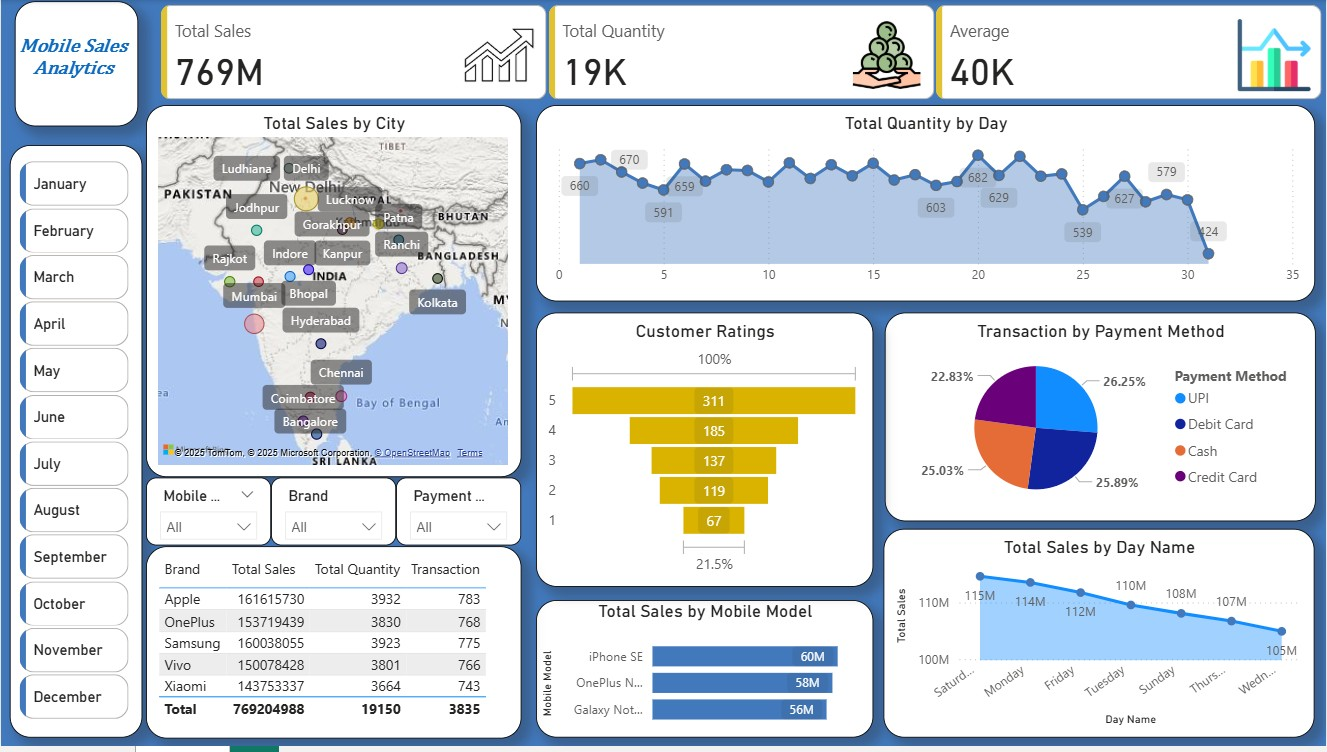

The dashboard page shown, as its layout file describes it:
{"tool":"powerbi","page":{"name":"Page 1","canvas":[1280,720],"ordinal":0},"visuals":[{"type":"shape","box":[13.7,1.4,119.4,120.8],"z":0},{"type":"shape","box":[8.2,140,127.6,572.2],"z":1000},{"type":"advancedSlicerVisual","fields":{"Values":["Sheet1.Date.Variation.Date Hierarchy.Month"]},"box":[13.3,150.8,115.8,548.9],"z":2000},{"type":"cardVisual","fields":{"Data":["Sales _Data.Total Sales","Sales _Data.Total Quantity","Sales _Data.Average"]},"box":[149.6,0,1130.7,101.5],"z":3000},{"type":"map","fields":{"Category":["Sales _Data.City"],"Size":["Sales _Data.Total Sales"]},"box":[140,101.5,362.3,359.5],"z":4000},{"type":"lineChart","fields":{"Category":["Sales _Data.Date.Variation.Date Hierarchy.Month","Sales _Data.Date.Variation.Date Hierarchy.Day"],"Y":["Sales _Data.Total Quantity"]},"box":[516,101.5,752,189.4],"z":5000},{"type":"clusteredBarChart","fields":{"Category":["Sales _Data.Mobile Model"],"Y":["Sales _Data.Total Sales"]},"box":[516,579.1,325.2,133.1],"z":6000},{"type":"pieChart","fields":{"Y":["Sales _Data.Transaction"],"Category":["Sales _Data.Payment Method"]},"box":[853.5,301.9,415.8,201.7],"z":7000},{"type":"funnel","title":"Customer Ratings","fields":{"Category":["Sales _Data.Customer Ratings"],"Y":["CountNonNull(Sales _Data.Customer Ratings)"]},"box":[516,301.9,325.2,264.8],"z":8000},{"type":"areaChart","fields":{"Category":["Sales _Data.Day Name"],"Y":["Sales _Data.Total Sales"]},"box":[852.1,510.5,415.8,201.7],"z":9000},{"type":"tableEx","fields":{"Values":["Sales _Data.Brand","Sales _Data.Total Sales","Sales _Data.Total Quantity","Sales _Data.Transaction"]},"box":[140,526.9,362.3,185.2],"z":10000},{"type":"slicer","fields":{"Values":["Sales _Data.Mobile Model"]},"box":[140,461.1,120.8,65.9],"z":11000},{"type":"slicer","fields":{"Values":["Sales _Data.Brand"]},"box":[260.7,461.1,120.8,65.9],"z":12000},{"type":"slicer","fields":{"Values":["Sales _Data.Payment Method"]},"box":[381.5,461.1,120.8,65.9],"z":13000},{"type":"textbox","box":[0,29,138.7,66.4],"z":14000}]}

Visuals, with their boxes in screenshot pixels (x1, y1, x2, y2), scaled from the page's 1280x720 canvas onto the 1327x752 screenshot:
shape: region(14, 1, 138, 128)
shape: region(9, 146, 141, 744)
advancedSlicerVisual - Sheet1.Date.Variation.Date Hierarchy.Month: region(14, 158, 134, 731)
cardVisual - Sales _Data.Total Sales x Sales _Data.Total Quantity: region(155, 0, 1326, 106)
map - Sales _Data.City x Sales _Data.Total Sales: region(145, 106, 521, 481)
lineChart - Sales _Data.Date.Variation.Date Hierarchy.Month x Sales _Data.Date.Variation.Date Hierarchy.Day: region(535, 106, 1315, 304)
clusteredBarChart - Sales _Data.Mobile Model x Sales _Data.Total Sales: region(535, 605, 872, 744)
pieChart - Sales _Data.Transaction x Sales _Data.Payment Method: region(885, 315, 1316, 526)
"Customer Ratings" funnel: region(535, 315, 872, 592)
areaChart - Sales _Data.Day Name x Sales _Data.Total Sales: region(883, 533, 1314, 744)
tableEx - Sales _Data.Brand x Sales _Data.Total Sales: region(145, 550, 521, 744)
slicer - Sales _Data.Mobile Model: region(145, 482, 270, 550)
slicer - Sales _Data.Brand: region(270, 482, 396, 550)
slicer - Sales _Data.Payment Method: region(396, 482, 521, 550)
textbox: region(0, 30, 144, 100)
